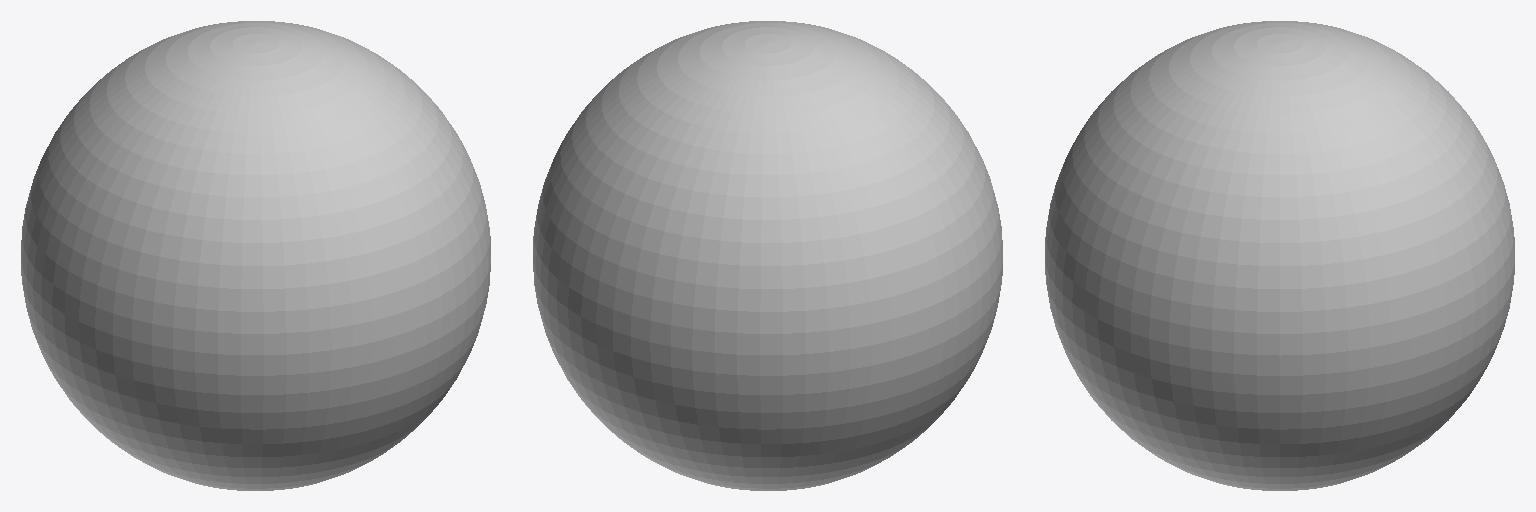
Rendered from debug_sphere.obj.
3 views of the same model, side by side, from view 1: azimuth 30°, elevation 25°; view 2: azimuth 150°, elevation 25°; view 3: azimuth 270°, elevation 25° (orthographic).
Parts seen in each view (by area): view 1: Sphere; view 2: Sphere; view 3: Sphere.
Boxes of the visible parts, box(x1,y1,x2,y2) form: Sphere: box(21, 21, 490, 490); Sphere: box(533, 21, 1002, 490); Sphere: box(1045, 21, 1514, 490).
Bounding box in the file's own units: 2 × 2 × 2.